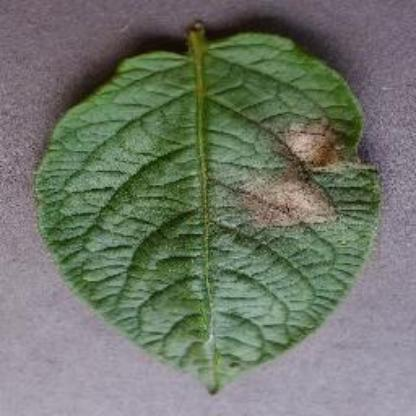Late-Blight: (34, 18, 390, 396)
